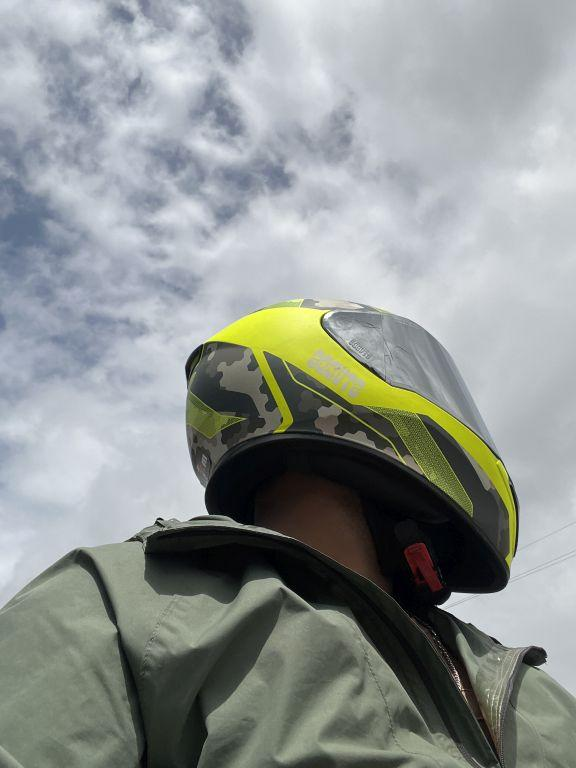helmet: (174, 287, 532, 638)
